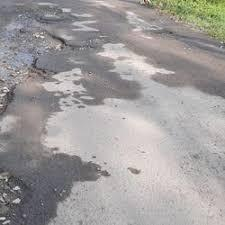Pothole: (0, 152, 48, 222)
